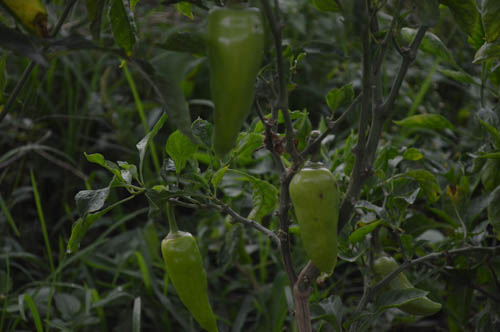ChiliPepper: (206, 10, 262, 159), (291, 169, 341, 274), (162, 236, 219, 323)
